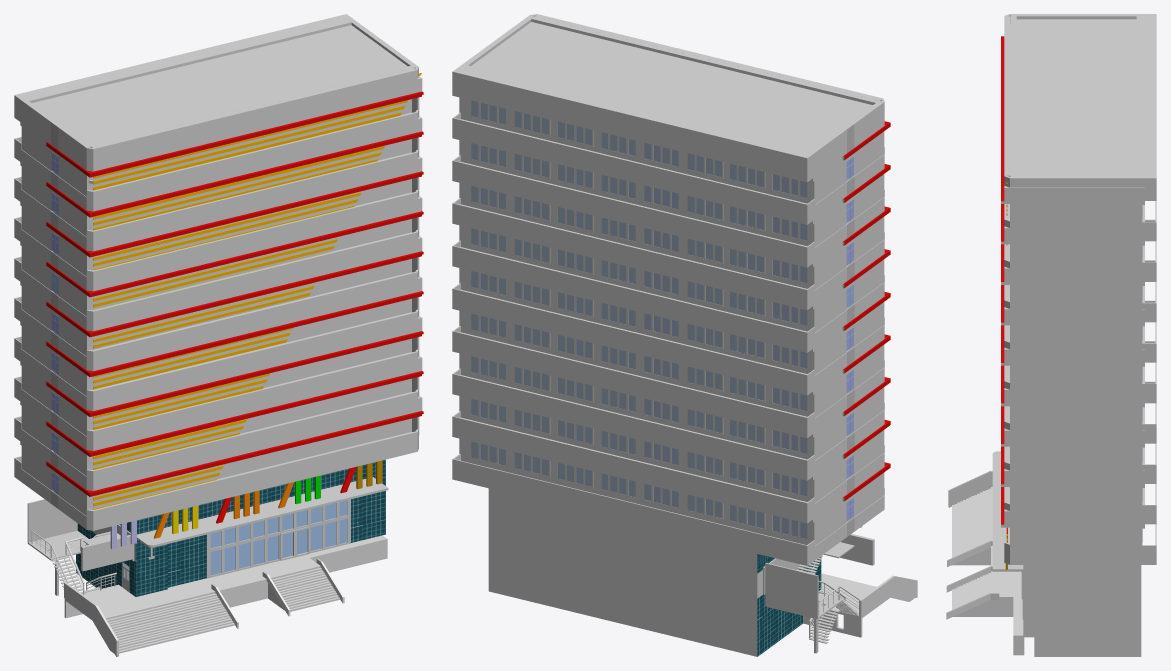
File: Tòa I.dae
The picture shows the model from 3 angles, left to right: view 1: azimuth 30°, elevation 25°; view 2: azimuth 150°, elevation 25°; view 3: azimuth 270°, elevation 25°; orthographic projection. The views are drawn at different scales.
Visible parts, largest first — view 1: Tòa I; view 2: Tòa I; view 3: Tòa I.
Part boxes in pixels (<box>): Tòa I: <box>14,14,423,656</box>; Tòa I: <box>452,14,917,656</box>; Tòa I: <box>946,14,1156,656</box>.
Bounding box in the file's own units: 140 × 74.9 × 194.
